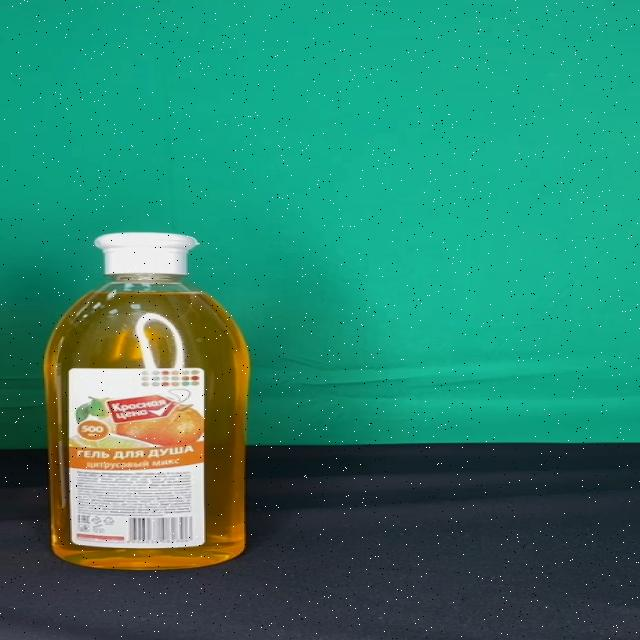Bottle: (42, 231, 252, 571)
Cap: (93, 233, 201, 276)
